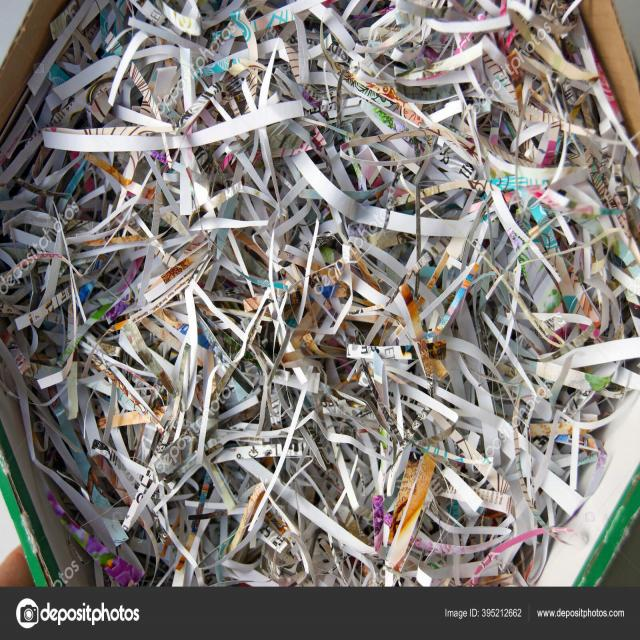Paper -Biodegradable-: (0, 0, 640, 600)
